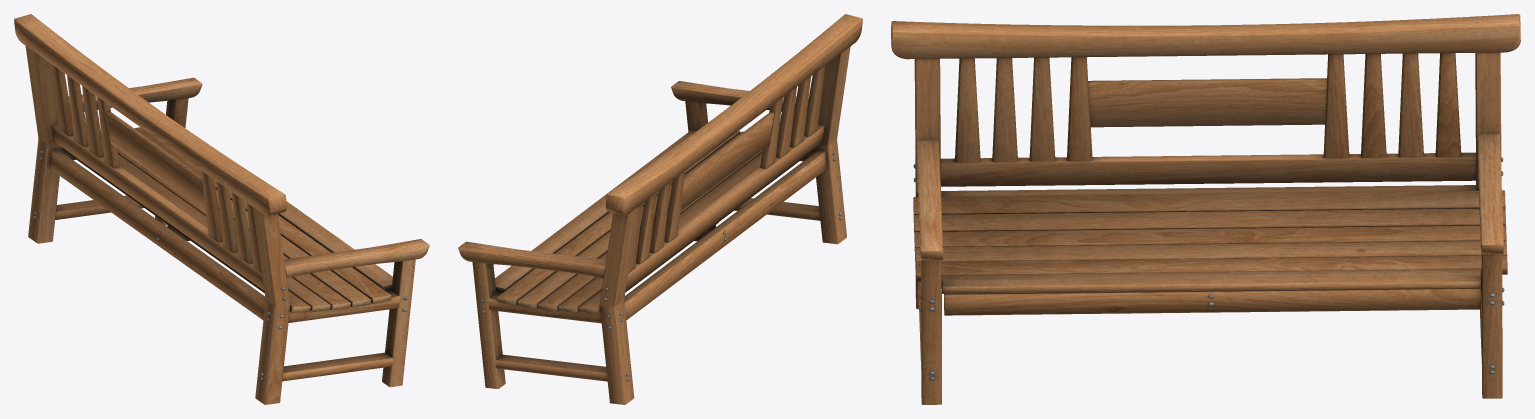
The model's file is bench.obj.
The picture shows the model from 3 angles, left to right: view 1: azimuth 30°, elevation 25°; view 2: azimuth 150°, elevation 25°; view 3: azimuth 270°, elevation 25°; orthographic projection. The views are drawn at different scales.
Visible parts, largest first — view 1: Cgtuts_Wood_Bench_OBJ; view 2: Cgtuts_Wood_Bench_OBJ; view 3: Cgtuts_Wood_Bench_OBJ.
Boxes of the visible parts, x1=… form: Cgtuts_Wood_Bench_OBJ: x1=14, y1=14, x2=429, y2=404; Cgtuts_Wood_Bench_OBJ: x1=458, y1=14, x2=862, y2=404; Cgtuts_Wood_Bench_OBJ: x1=891, y1=14, x2=1520, y2=404.
Bounding box in the file's own units: 1.42 × 1.75 × 3.37.
1 material, 1 textured.
